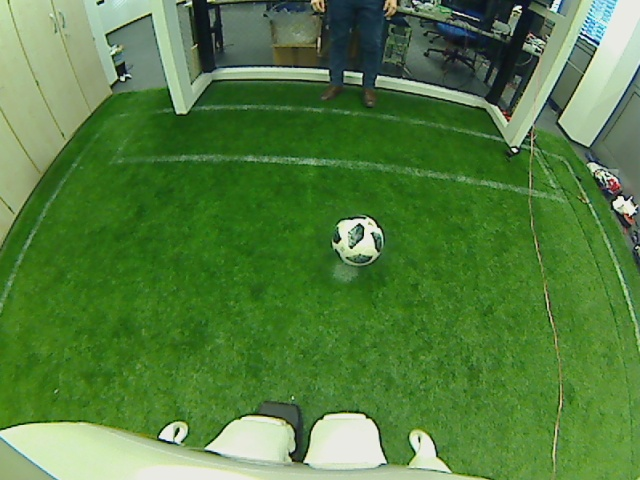ball: (329, 211, 384, 270)
